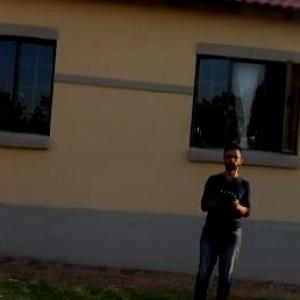follow: (184, 139, 252, 299)
